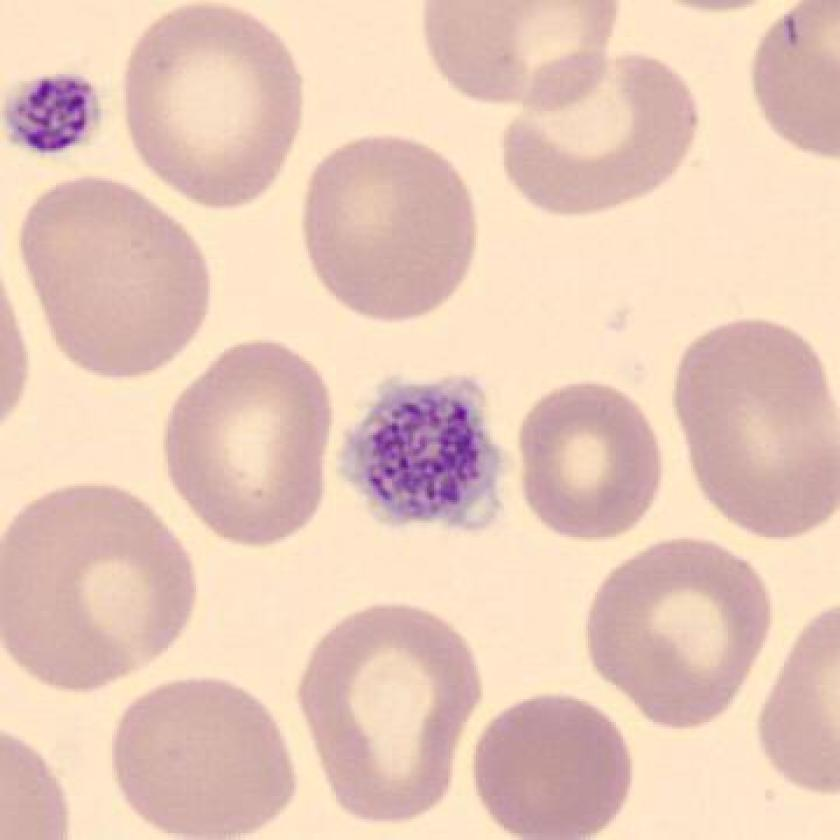platelets: (328, 369, 514, 552)
